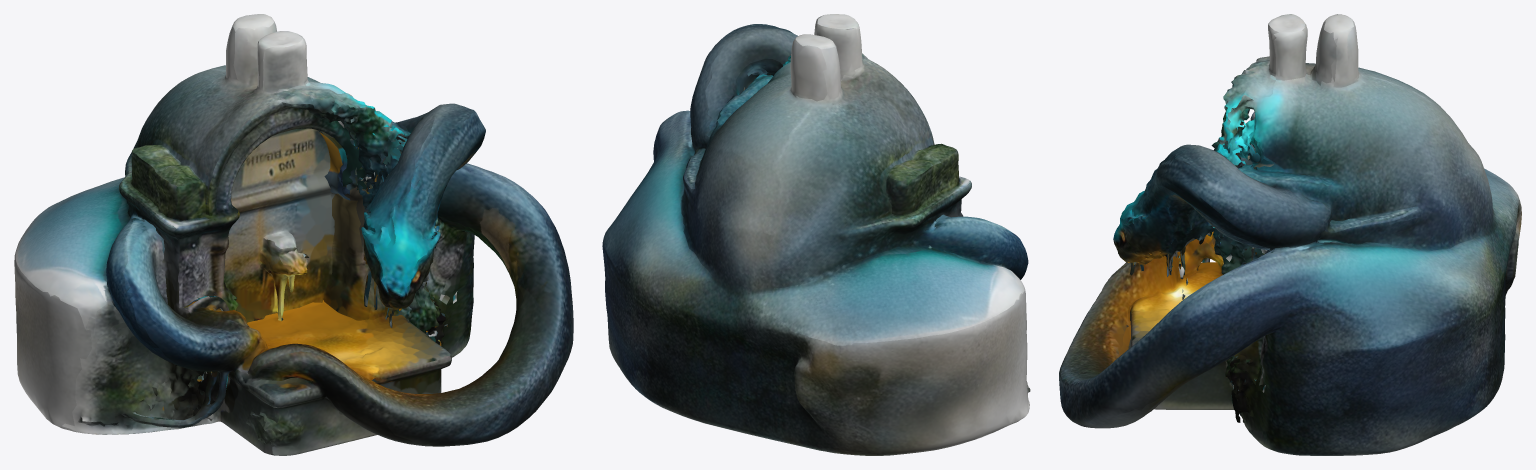
3 renders of one model, left to right at view 1: azimuth 30°, elevation 25°; view 2: azimuth 150°, elevation 25°; view 3: azimuth 270°, elevation 25°, orthographic. The views are drawn at different scales.
Parts seen in each view (by area): view 1: tmpb0fg9m0n.ply; view 2: tmpb0fg9m0n.ply; view 3: tmpb0fg9m0n.ply.
Boxes of the visible parts, box(x1,y1,x2,y2) form: tmpb0fg9m0n.ply: box(14, 14, 573, 455); tmpb0fg9m0n.ply: box(602, 14, 1030, 455); tmpb0fg9m0n.ply: box(1059, 14, 1521, 455).
Bounding box in the file's own units: 1.99 × 1.52 × 1.85.
1 material, 1 textured.
